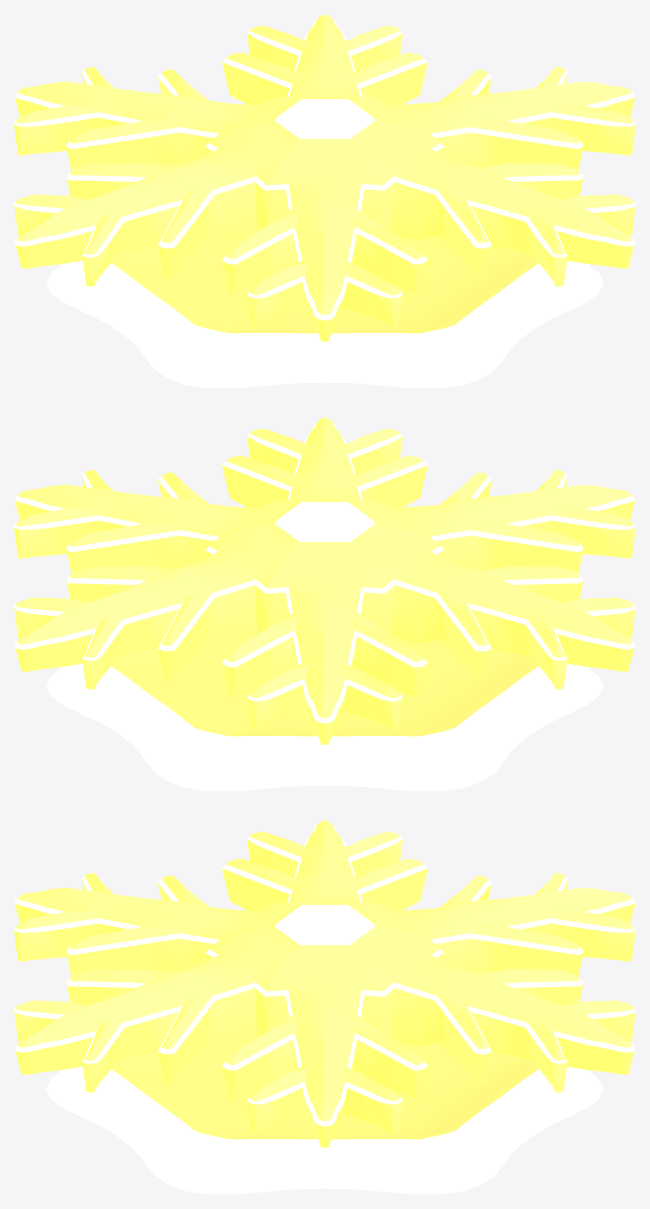
Rendered from Ice_Snowflake_Yellow.glb.
3 views of the same model, one above another, from view 1: azimuth 30°, elevation 25°; view 2: azimuth 150°, elevation 25°; view 3: azimuth 270°, elevation 25° (orthographic).
Visible parts, largest first — view 1: Button_Yellow_Surface, Button_Yellow_Frame; view 2: Button_Yellow_Surface, Button_Yellow_Frame; view 3: Button_Yellow_Surface, Button_Yellow_Frame.
Part boxes in pixels (<box>): Button_Yellow_Surface: <box>14,14,635,341</box>; Button_Yellow_Frame: <box>46,236,603,388</box>; Button_Yellow_Surface: <box>14,417,635,744</box>; Button_Yellow_Frame: <box>46,639,603,791</box>; Button_Yellow_Surface: <box>14,820,635,1147</box>; Button_Yellow_Frame: <box>46,1042,603,1194</box>.
Size of the model in its own units: 2 by 0.525 by 1.74.
